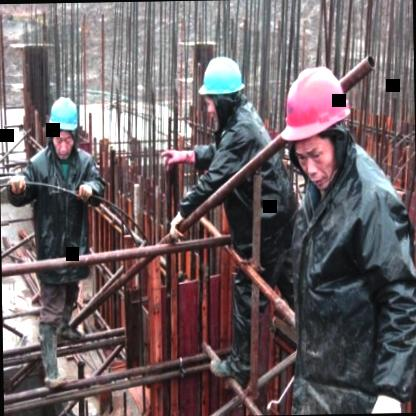helmet: (278, 55, 355, 186), (197, 51, 247, 124), (46, 94, 82, 159)
